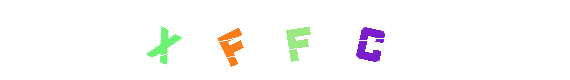C: (329, 0, 409, 80)
F: (192, 0, 272, 80), (245, 0, 325, 80)
X: (191, 0, 271, 80)
